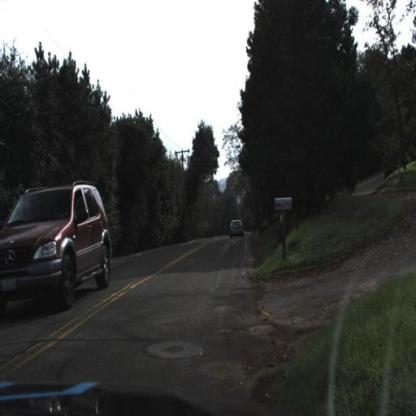car: (1, 184, 114, 317), (228, 219, 247, 239)
